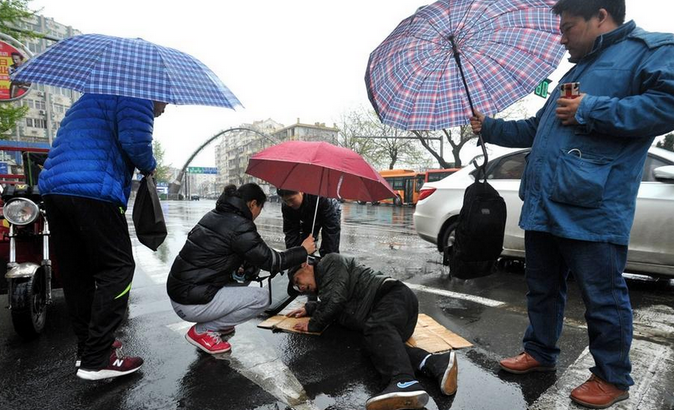fall: (266, 249, 471, 408)
